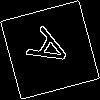A: (25, 25, 82, 78)
